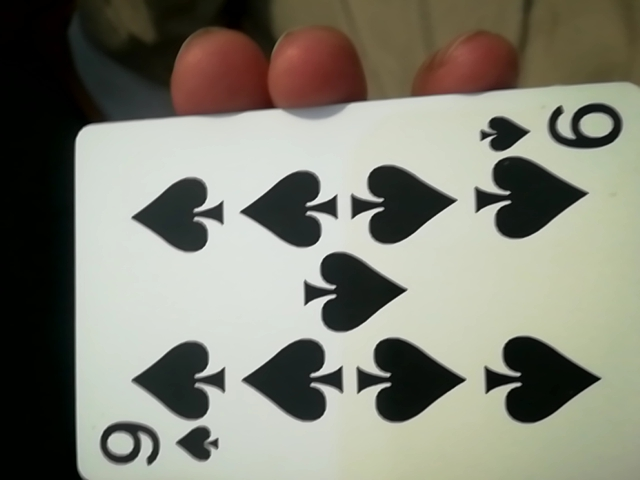ht 9: (56, 97, 629, 477)
